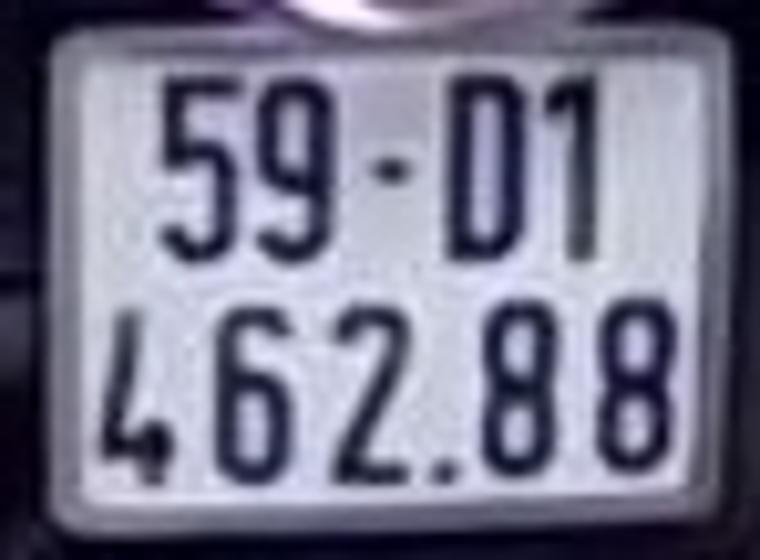-: (366, 147, 417, 195)
.: (425, 447, 462, 492)
1: (540, 68, 612, 261)
2: (327, 297, 416, 489)
4: (94, 303, 176, 489)
5: (162, 68, 243, 271)
6: (209, 304, 297, 488)
8: (477, 295, 564, 486), (598, 293, 683, 476)
9: (257, 70, 339, 264)
D: (447, 72, 528, 262)
